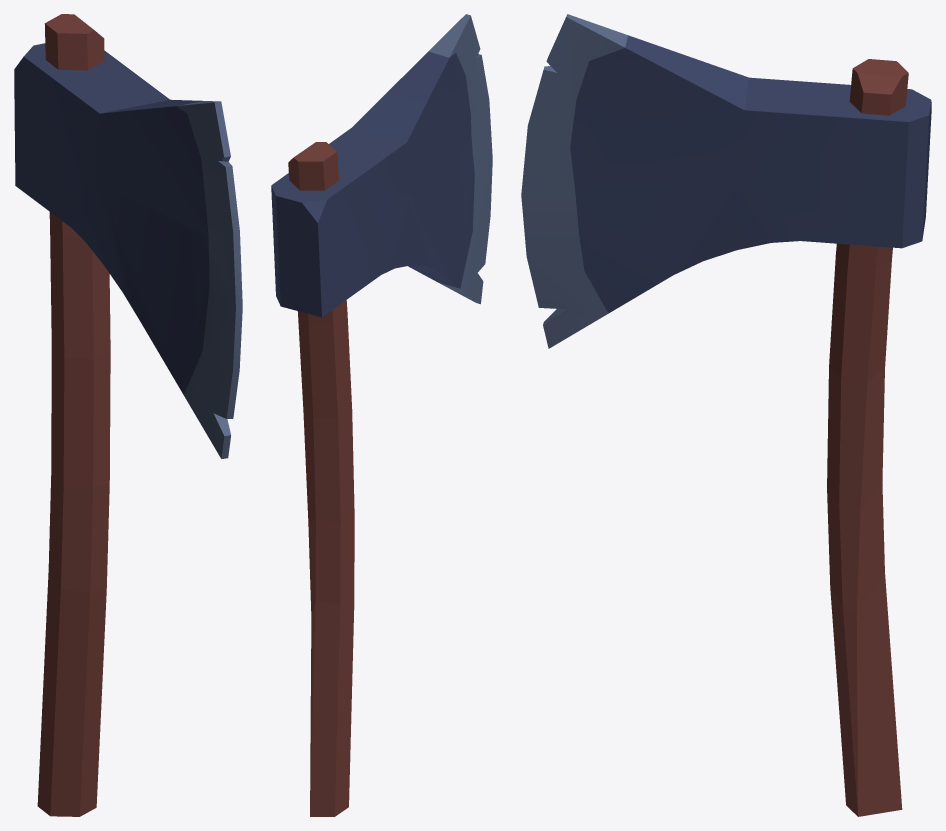
The model's file is Axe_Steel.fbx.
3 views of the same model, side by side, from view 1: azimuth 30°, elevation 25°; view 2: azimuth 150°, elevation 25°; view 3: azimuth 270°, elevation 25° (orthographic). The views are drawn at different scales.
Parts seen in each view (by area): view 1: Axe in Wood.002; view 2: Axe in Wood.002; view 3: Axe in Wood.002.
Part boxes in pixels (x1,y1,x2,y2): Axe in Wood.002: (14,14,242,816); Axe in Wood.002: (271,14,492,816); Axe in Wood.002: (521,14,931,816).
Bounding box in the file's own units: 9.03 × 90.8 × 42.84.
